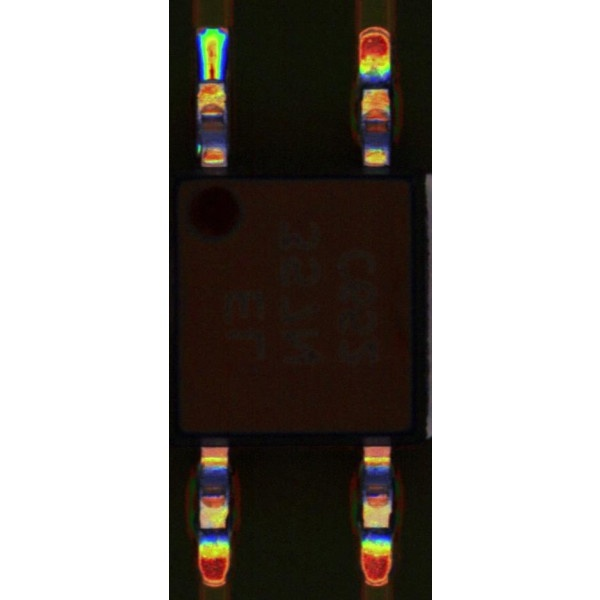Bad_podu: (204, 64, 220, 90)
